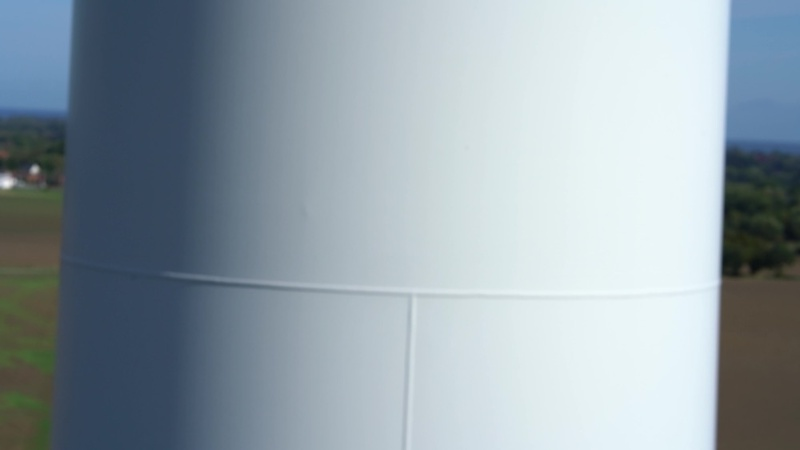weldseam: (58, 249, 721, 307), (400, 281, 424, 450)
